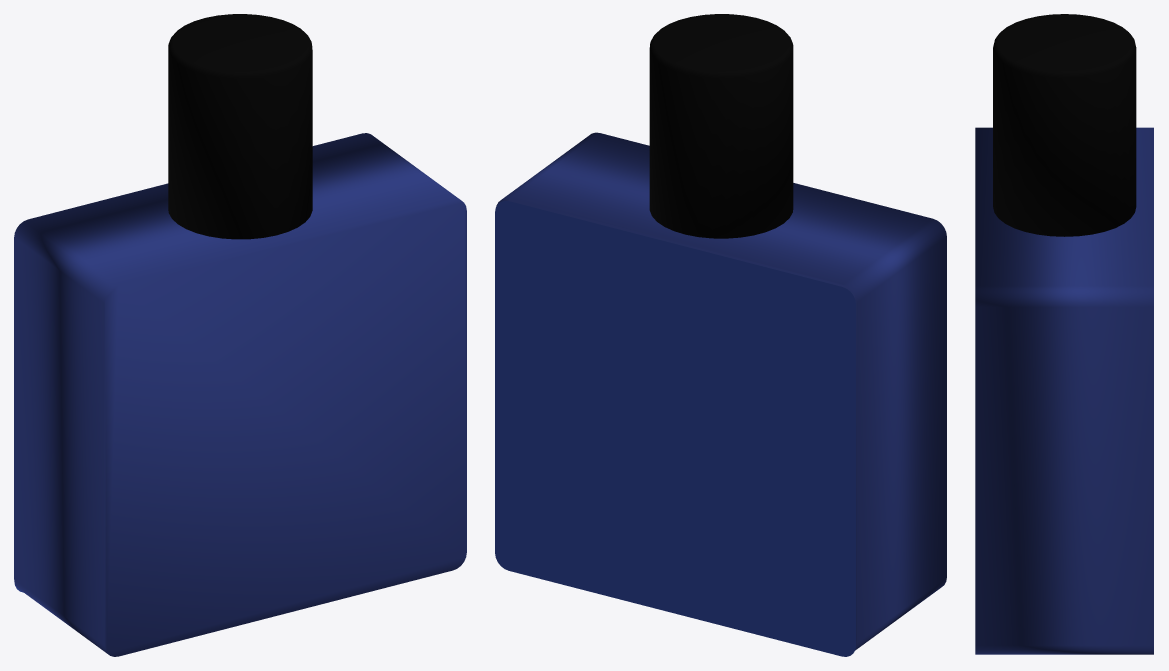
Rendered from BluePerfume.glb.
3 views of the same model, side by side, from view 1: azimuth 30°, elevation 25°; view 2: azimuth 150°, elevation 25°; view 3: azimuth 270°, elevation 25° (orthographic).
Visible parts, largest first — view 1: liqud; view 2: liqud; view 3: liqud.
Boxes of the visible parts, x1,y1,x2,y2 form: liqud: (14, 14, 466, 656); liqud: (495, 14, 946, 656); liqud: (975, 14, 1153, 654).
Bounding box in the file's own units: 2.79 × 3.98 × 1.21.
